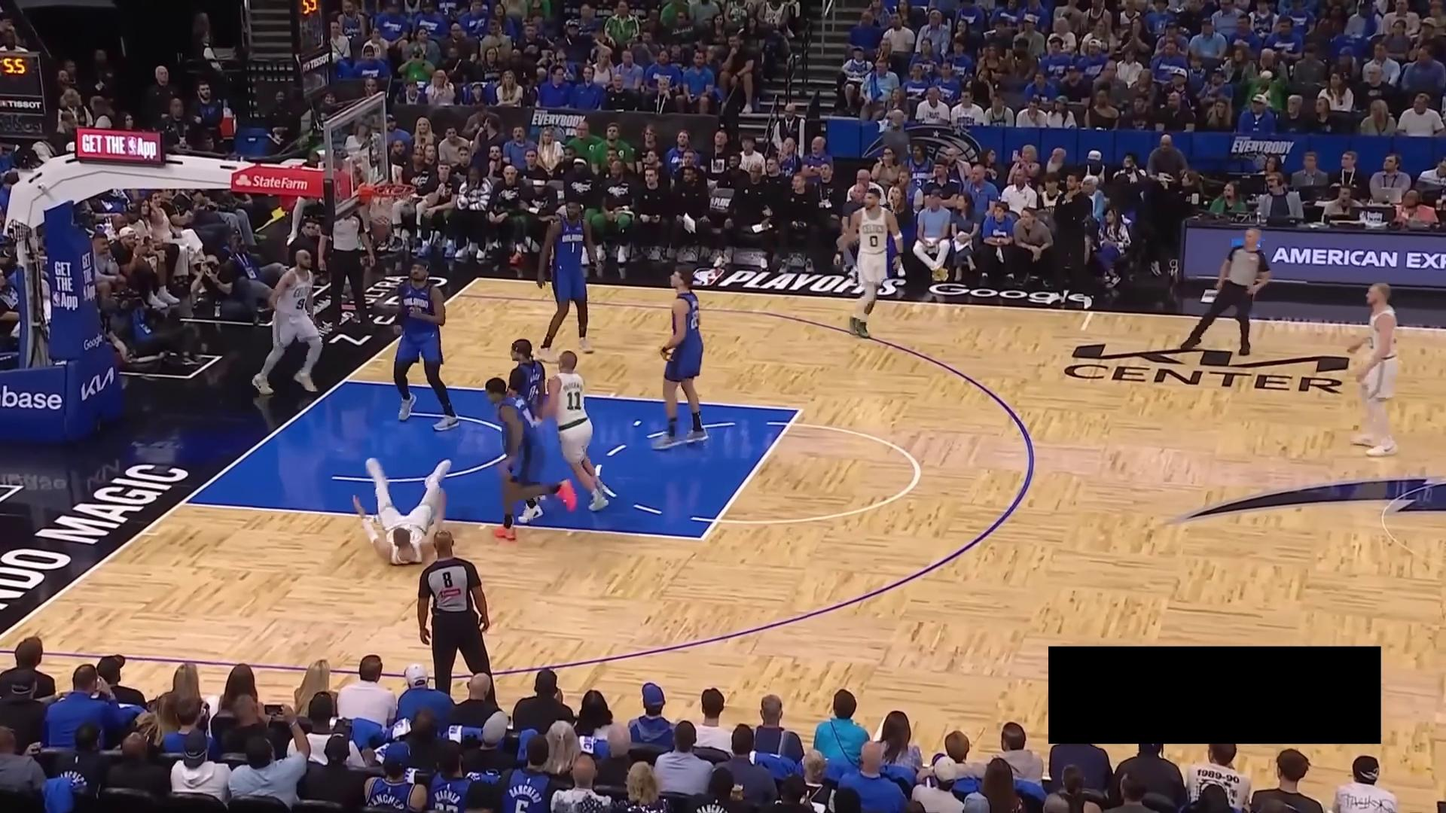ball: (370, 217, 393, 241)
number: (564, 388, 584, 414), (689, 308, 700, 329), (527, 384, 537, 403), (295, 298, 305, 310), (869, 235, 878, 248), (571, 242, 575, 253)
player: (482, 372, 579, 544), (375, 259, 466, 432), (533, 192, 601, 363), (354, 455, 457, 567), (652, 263, 713, 450), (250, 247, 326, 395), (541, 350, 609, 510), (843, 185, 909, 339), (1345, 280, 1401, 459), (504, 337, 548, 524)
referee: (417, 527, 502, 716), (1176, 228, 1279, 356), (314, 205, 381, 334)
rim: (371, 183, 417, 199)
